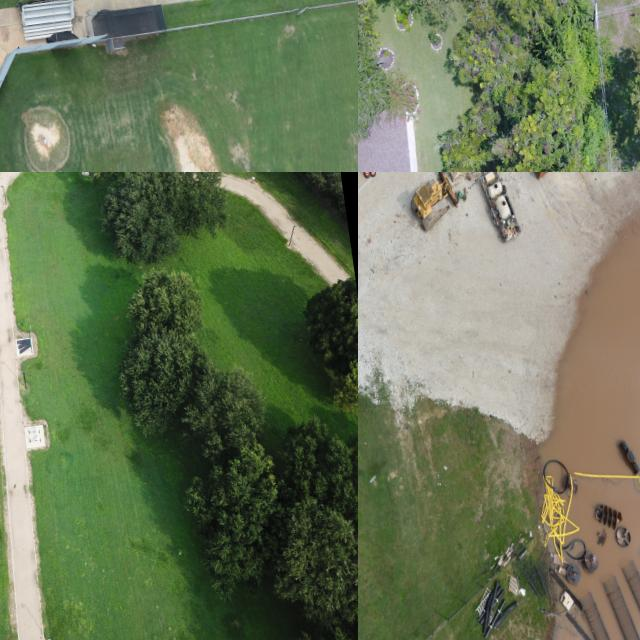fire: (539, 212, 640, 473)
